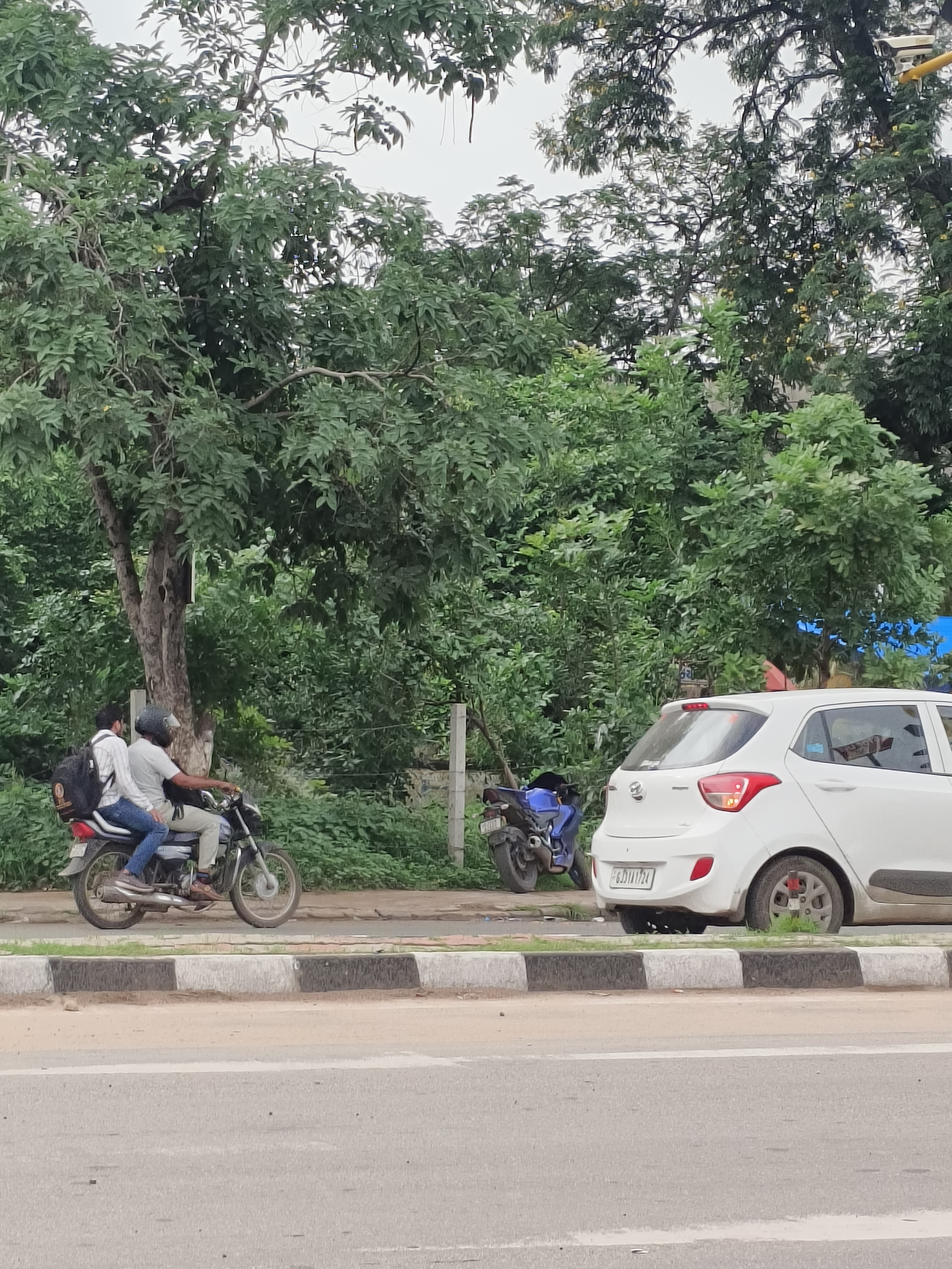BikeWithRider: (39, 700, 314, 939)
Helmet: (130, 703, 185, 750)
NoHelmet: (87, 703, 128, 745)
